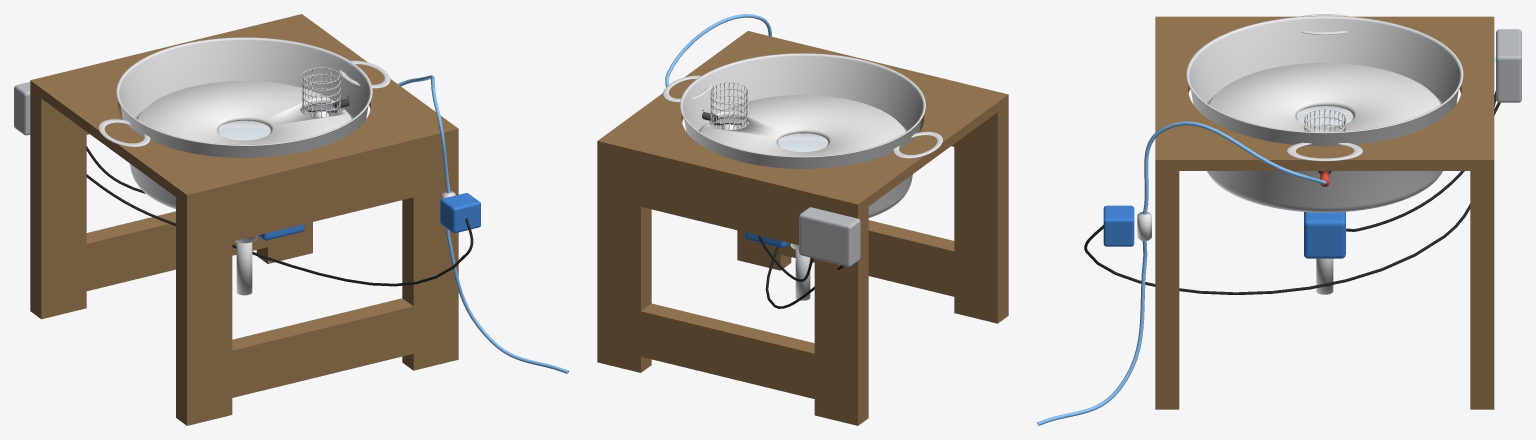
File: kong-waterer.glb
3 views of the same model, side by side, from view 1: azimuth 30°, elevation 25°; view 2: azimuth 150°, elevation 25°; view 3: azimuth 270°, elevation 25° (orthographic). The views are drawn at different scales.
Parts seen in each view (by area): view 1: StandTop, Bowl, Leg.003, Leg.002, Stretcher.001, Leg.001, Disc, Apron.001, Stretcher, InletValveActuator, Leg, CableSolenoid (+6 smaller); view 2: StandTop, Bowl, Leg.003, Leg, Stretcher, Leg.002, Disc, Apron, Stretcher.001, ESP32Box, Leg.001, FloatCage (+4 smaller); view 3: Bowl, StandTop, Disc, Leg, Leg.001, Actuator, ESP32Box, CableSolenoid, InletValveActuator, InletTubeB, InletTubeA, Water (+4 smaller).
Part boxes in pixels (x1,y1,x2,y2): StandTop: (30,14,458,205); Bowl: (116,37,372,208); Leg.003: (176,194,232,425); Leg.002: (30,91,86,319); Stretcher.001: (232,298,413,397); Leg.001: (402,139,458,370); Disc: (137,81,351,144); Apron.001: (232,150,413,241); Stretcher: (86,211,267,291); InletValveActuator: (440,193,480,233); Leg: (256,222,312,263); CableSolenoid: (86,174,473,286); StandTop: (597,31,1008,214); Bowl: (680,53,925,217); Leg.003: (954,104,1008,323); Leg: (597,150,651,372); Stretcher: (641,303,814,398); Leg.002: (814,204,868,425); Disc: (699,95,906,156); Apron: (641,161,814,245); Stretcher.001: (780,220,954,296); ESP32Box: (799,207,860,266); Leg.001: (737,230,791,270); FloatCage: (710,82,747,129); Bowl: (1186,15,1463,212); StandTop: (1155,16,1494,170); Disc: (1208,63,1440,131); Leg: (1470,171,1494,409); Leg.001: (1155,171,1179,409); Actuator: (1304,212,1345,258); ESP32Box: (1496,29,1521,102); CableSolenoid: (1084,91,1496,294); InletValveActuator: (1103,205,1134,246); InletTubeB: (1142,121,1326,214); InletTubeA: (1037,240,1147,425); Water: (1207,97,1442,212).
Size of the model in its own units: 0.653 by 0.4924 by 0.7624.
